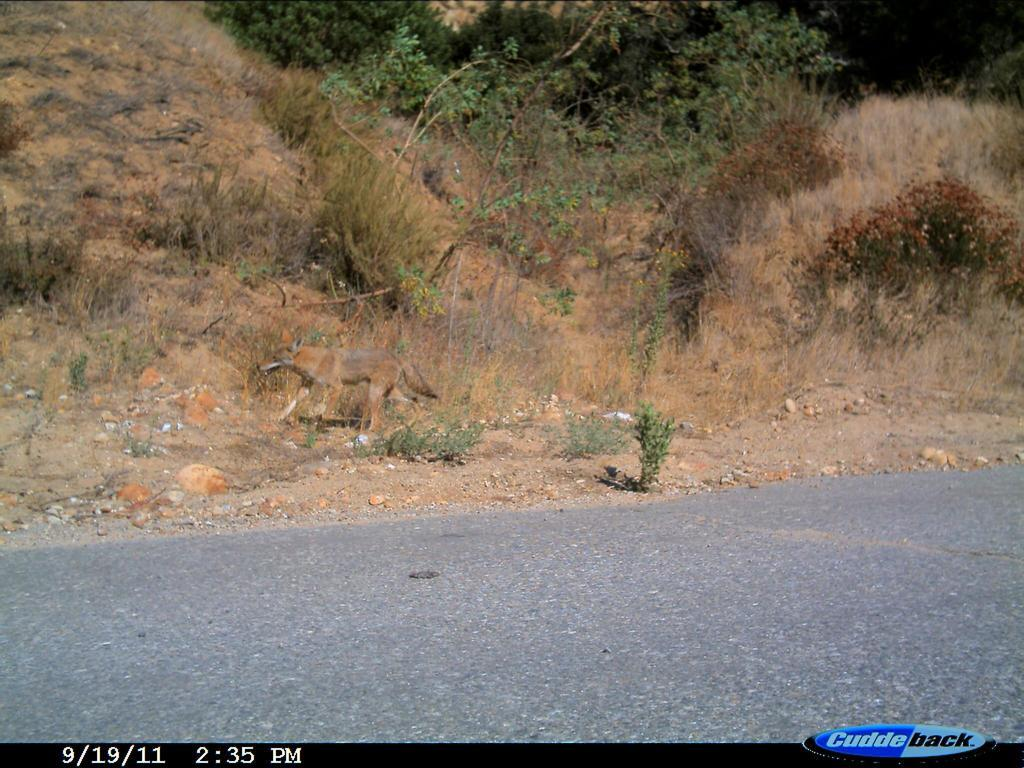coyote: (254, 324, 444, 438)
